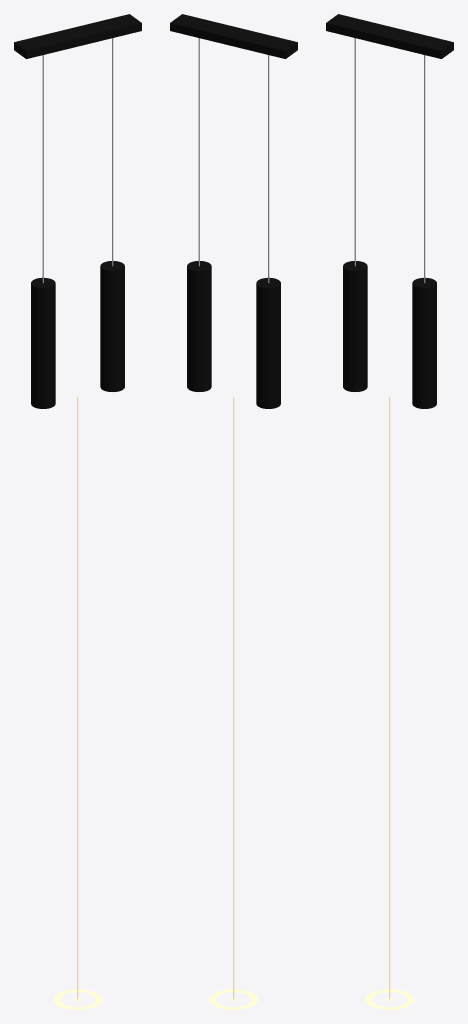
Rendered from suspension-cylindrique-noire-moderne-modele-neralis.glb.
3 views of the same model, side by side, from view 1: azimuth 30°, elevation 25°; view 2: azimuth 150°, elevation 25°; view 3: azimuth 330°, elevation 25° (orthographic).
Visible parts, largest first — view 1: suspension-cylindrique-noire-moderne-modele-neralis, reperage-fil, reperage-sol; view 2: suspension-cylindrique-noire-moderne-modele-neralis, reperage-fil, reperage-sol; view 3: suspension-cylindrique-noire-moderne-modele-neralis, reperage-fil, reperage-sol.
Part boxes in pixels (x1,y1,x2,y2): suspension-cylindrique-noire-moderne-modele-neralis: (14, 14, 141, 408); reperage-fil: (77, 397, 78, 999); reperage-sol: (53, 989, 102, 1009); suspension-cylindrique-noire-moderne-modele-neralis: (170, 14, 297, 408); reperage-fil: (233, 397, 234, 999); reperage-sol: (209, 989, 258, 1009); suspension-cylindrique-noire-moderne-modele-neralis: (326, 14, 453, 408); reperage-fil: (389, 397, 390, 999); reperage-sol: (365, 989, 414, 1009).
Bounding box in the file's own units: 0.3 × 2.4 × 0.11.
